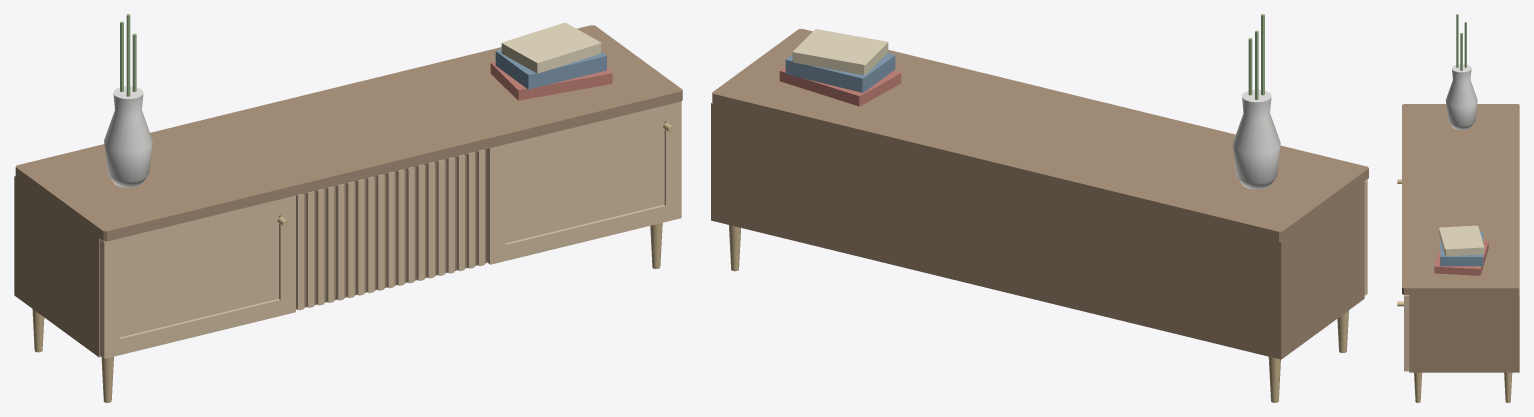
3 renders of one model, left to right at view 1: azimuth 30°, elevation 25°; view 2: azimuth 150°, elevation 25°; view 3: azimuth 270°, elevation 25°, orthographic. The views are drawn at different scales.
Parts seen in each view (by area): view 1: Kệ tivi Dài=1500; Sâu=400; view 2: Kệ tivi Dài=1500; Sâu=400; view 3: Kệ tivi Dài=1500; Sâu=400.
Part boxes in pixels (box(x1,y1,x2,y2)): Kệ tivi Dài=1500; Sâu=400: box(14, 14, 682, 402); Kệ tivi Dài=1500; Sâu=400: box(711, 14, 1368, 402); Kệ tivi Dài=1500; Sâu=400: box(1397, 14, 1519, 402).
Bounding box in the file's own units: 1.5 × 0.87 × 0.422.
